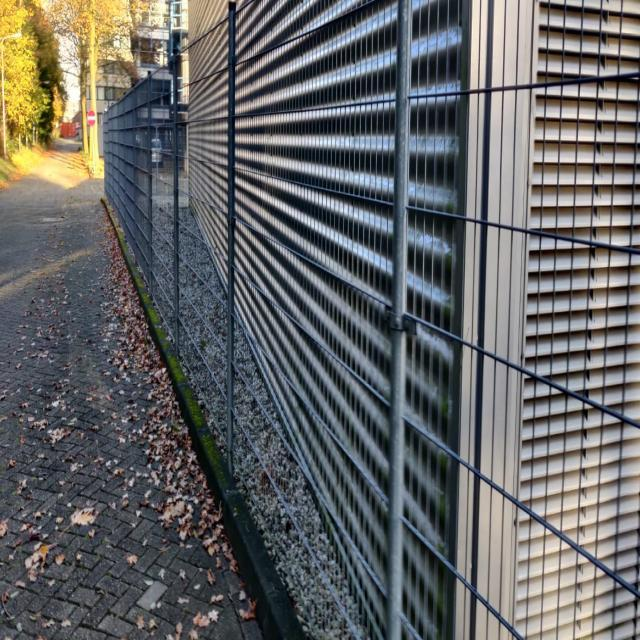fence line: (221, 0, 640, 640), (105, 75, 275, 495)
